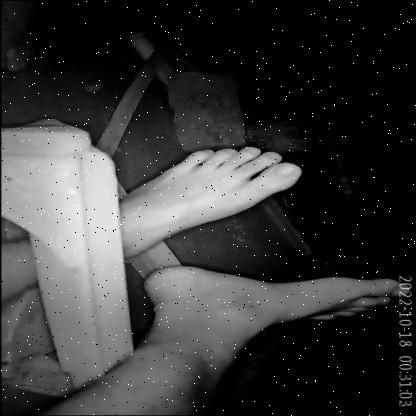leg: (55, 262, 406, 412), (104, 143, 311, 256)
